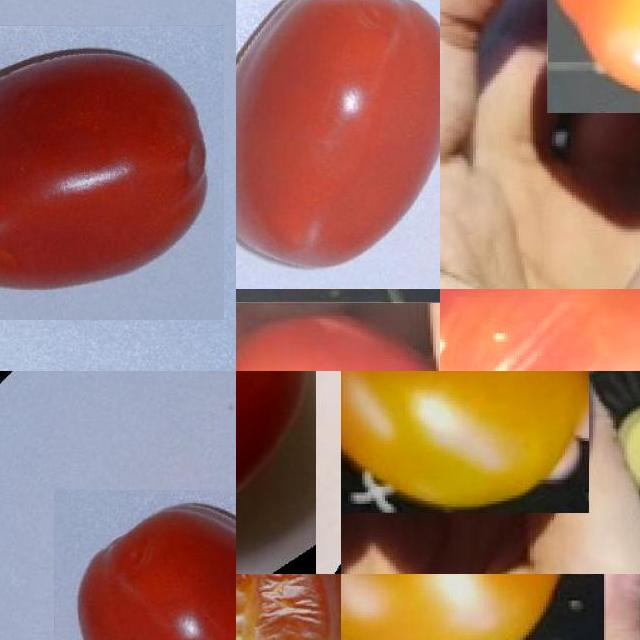Fresh Tomato: (0, 25, 223, 320), (236, 0, 440, 289), (341, 371, 589, 513), (54, 490, 236, 640), (341, 574, 606, 640), (236, 371, 316, 574)
Rotten Tomato: (440, 289, 640, 371)
